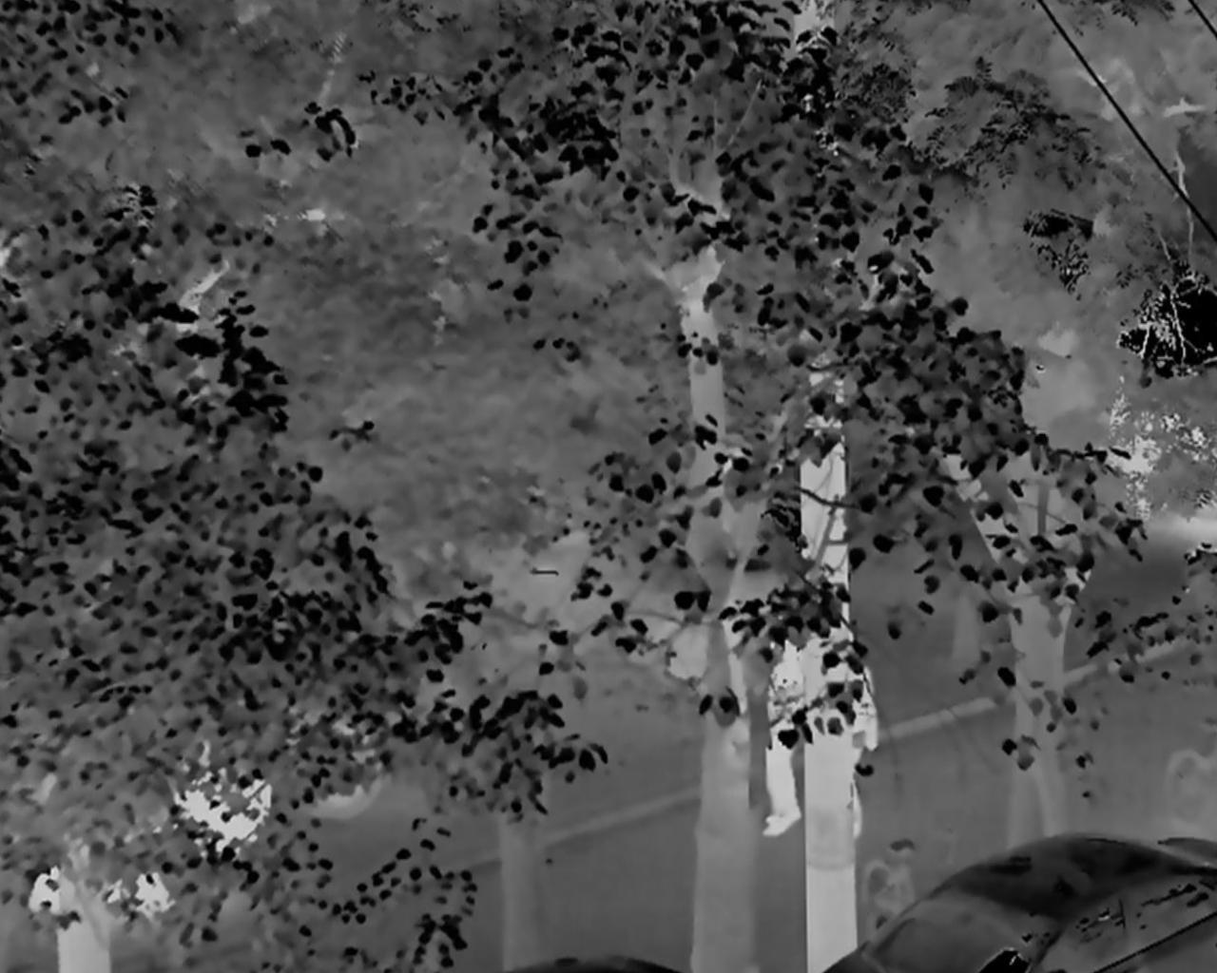person: (763, 618, 879, 849)
